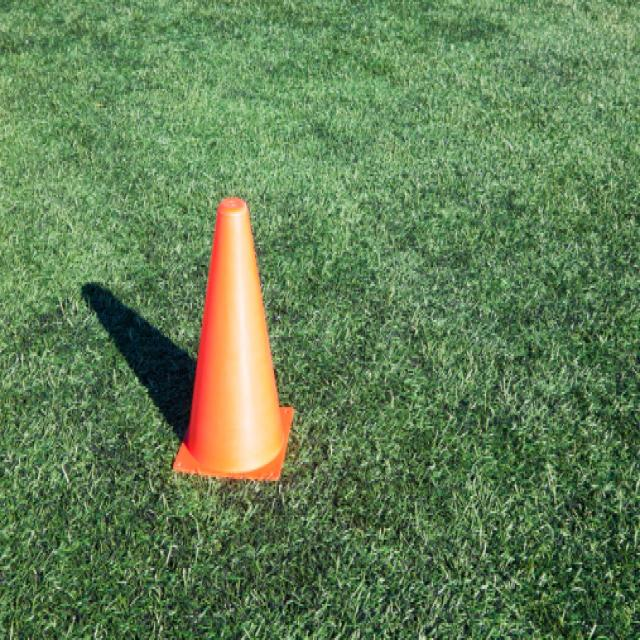cone: (173, 198, 294, 482)
